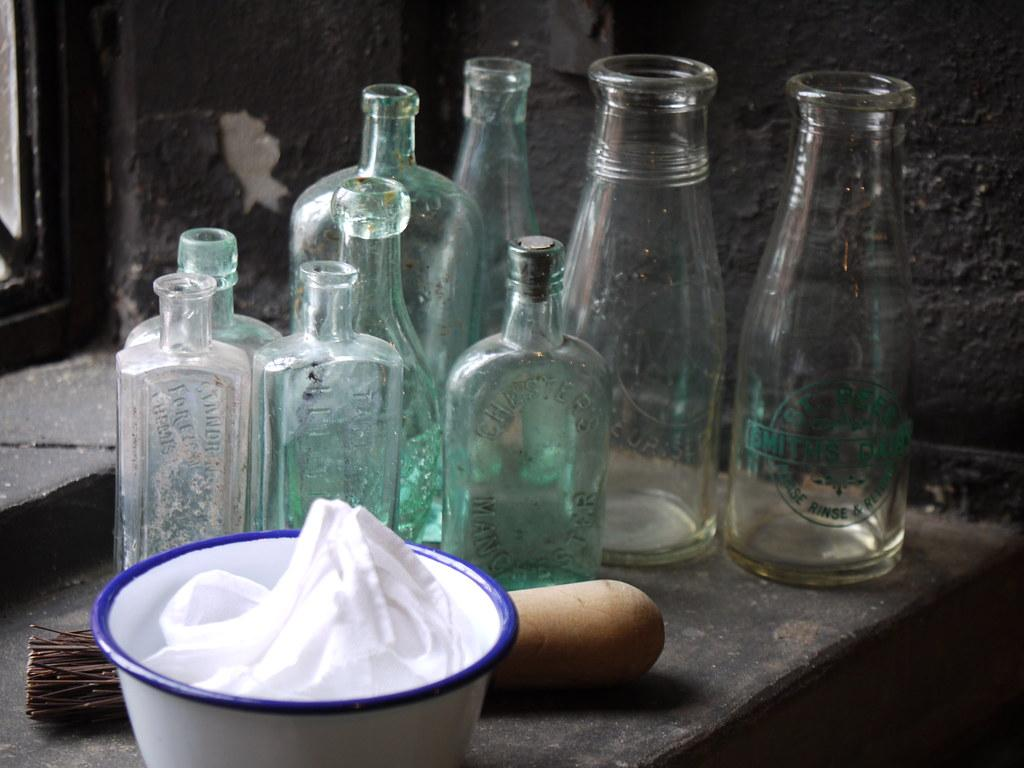bottle: (724, 70, 919, 588), (560, 53, 728, 568), (288, 83, 486, 402), (443, 235, 612, 592), (249, 260, 405, 536), (332, 175, 445, 552), (113, 272, 251, 575), (452, 56, 542, 342), (122, 227, 283, 361)
